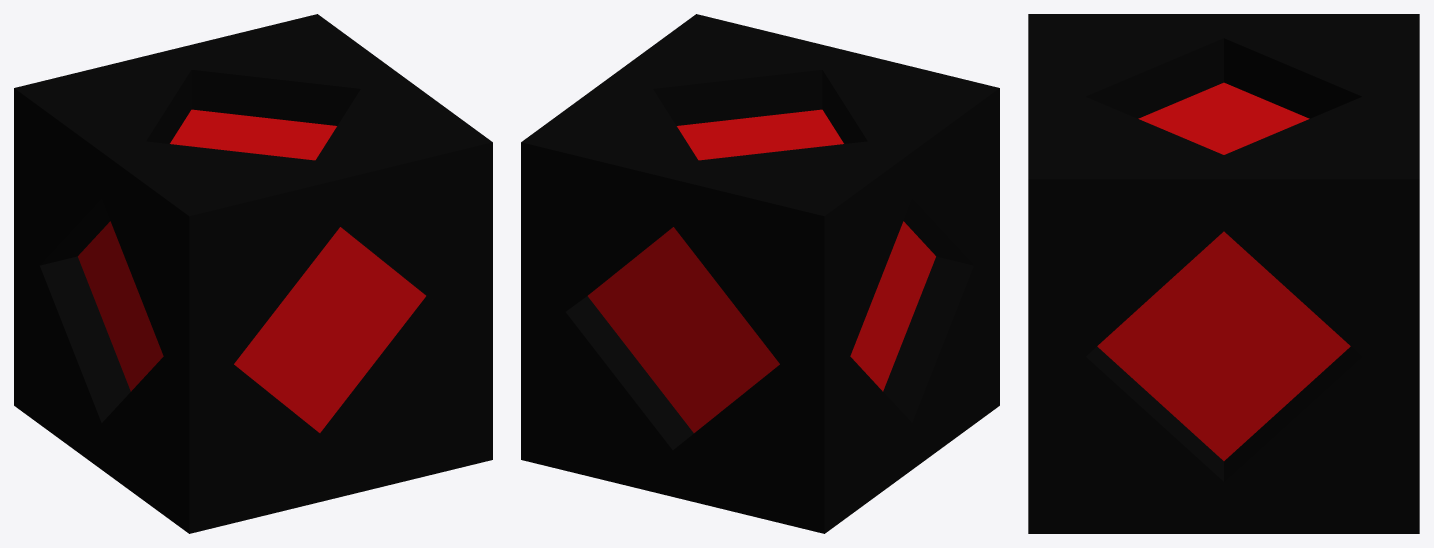
File: Cubito.glb
The picture shows the model from 3 angles, left to right: view 1: azimuth 30°, elevation 25°; view 2: azimuth 150°, elevation 25°; view 3: azimuth 270°, elevation 25°; orthographic projection. The views are drawn at different scales.
Parts seen in each view (by area): view 1: Cube, Cube.001; view 2: Cube, Cube.001; view 3: Cube, Cube.001.
Boxes of the visible parts, x1,y1,x2,y2 form: Cube: [14, 14, 492, 533]; Cube.001: [78, 109, 425, 432]; Cube: [521, 14, 999, 533]; Cube.001: [588, 109, 935, 432]; Cube: [1028, 14, 1419, 533]; Cube.001: [1097, 82, 1350, 460].
Size of the model in its own units: 2 by 2 by 2.
